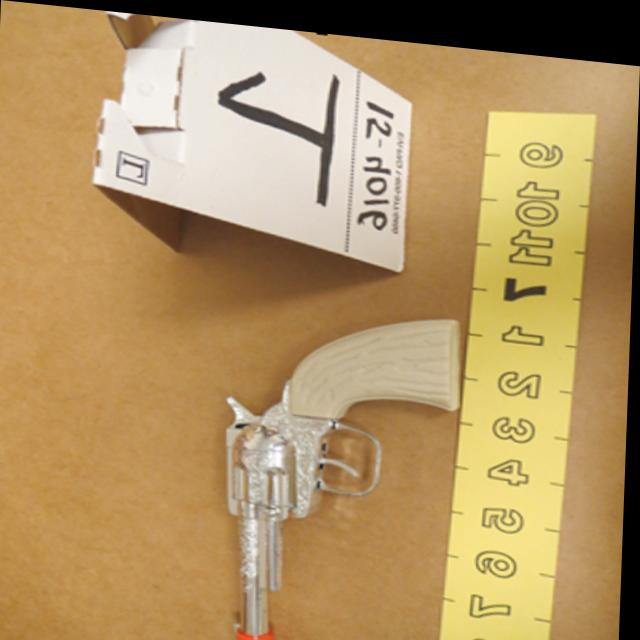handgun: (216, 282, 461, 640)
